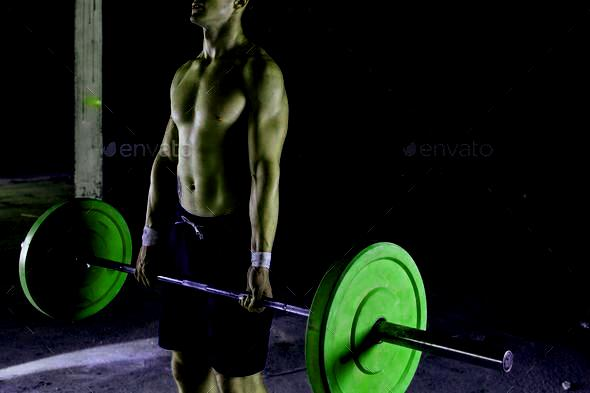Barbell: (499, 341, 520, 382)
